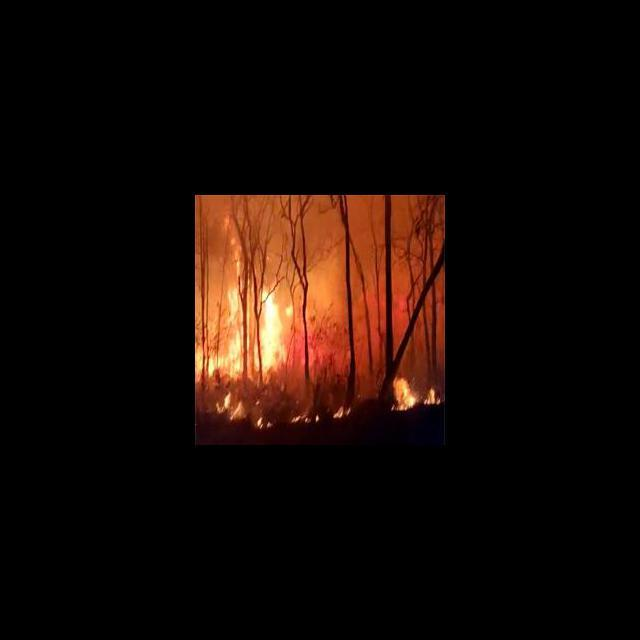Fire: (195, 234, 291, 381), (216, 392, 352, 431), (386, 375, 445, 412)
